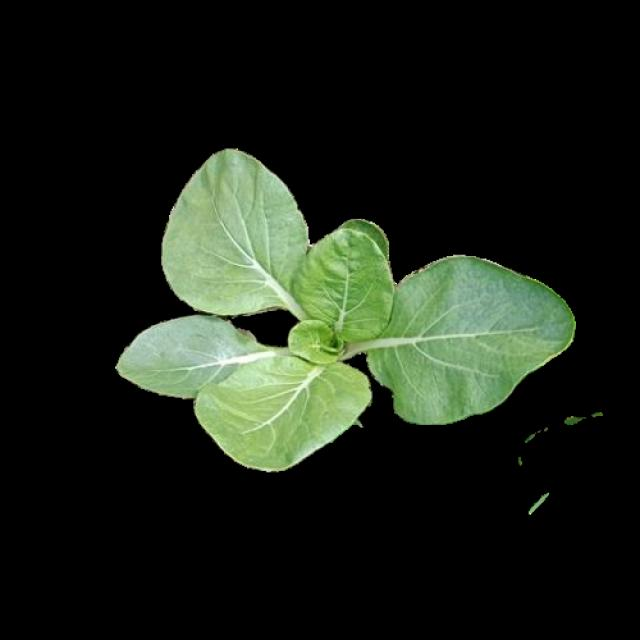healthy: (118, 162, 567, 466)
not-mature: (119, 152, 570, 468)
